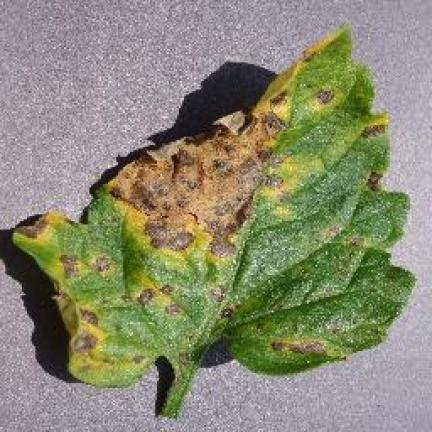disease: (14, 29, 412, 415)
leaf: (96, 27, 349, 284)
